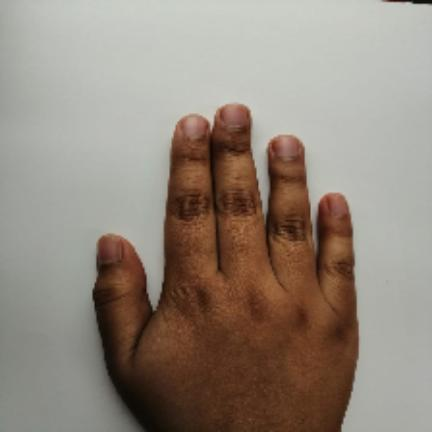Nail: (98, 235, 122, 264), (221, 103, 248, 127), (273, 135, 299, 158), (183, 115, 207, 138), (327, 193, 348, 217)
